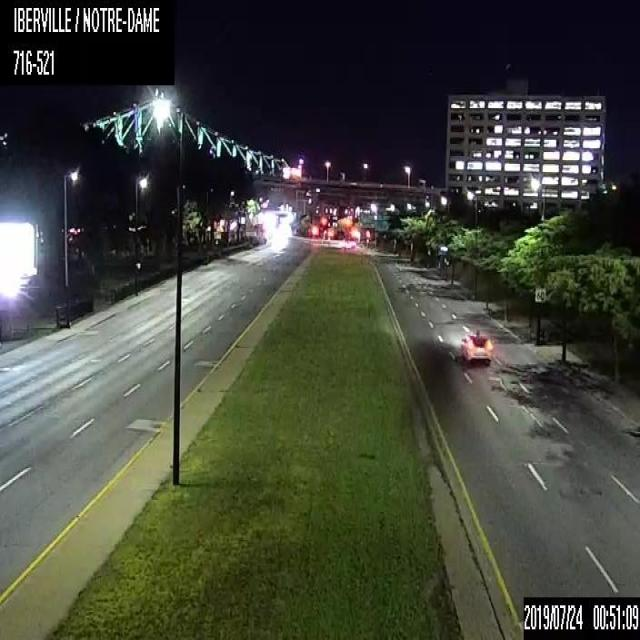vehicle: (459, 329, 493, 364)
